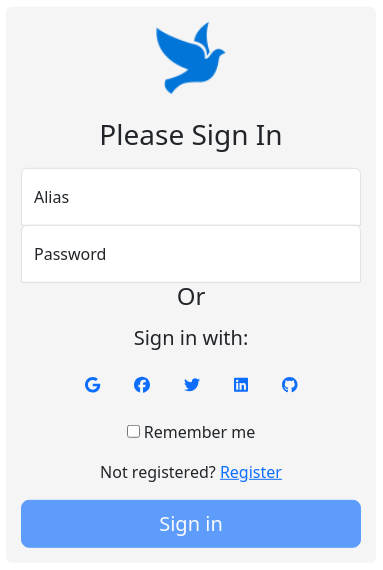
Test: Login Component › disables the sign in button if either the alias or password field is cleared
This screenshot has width=383, height=570.
Type "a" into the field labelled "Alias" at (191, 196), box [21,167,361,225]
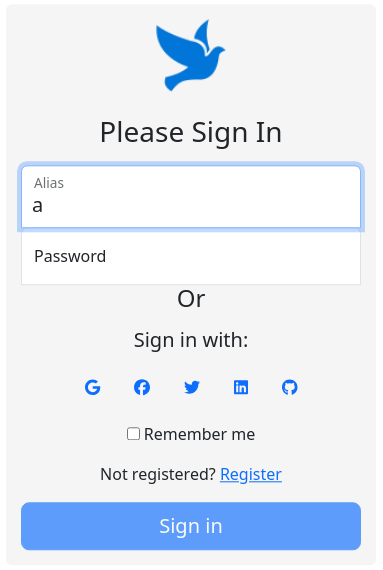
Type "b" into the password field labelled "Password" at (191, 256), box [21,227,361,285]
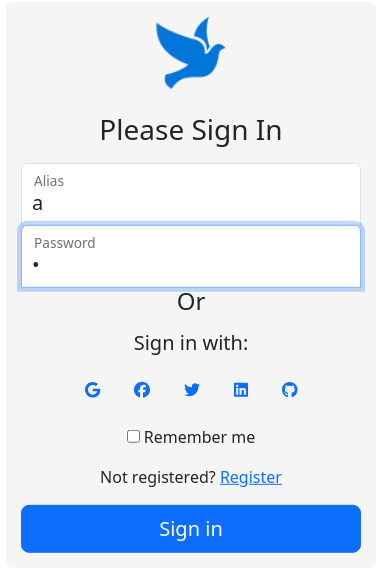
Expected: the button "Sign in" is enabled, [21,505,361,553]
Clear the field labelled "Alias" at (191, 194), box [21,162,361,225]
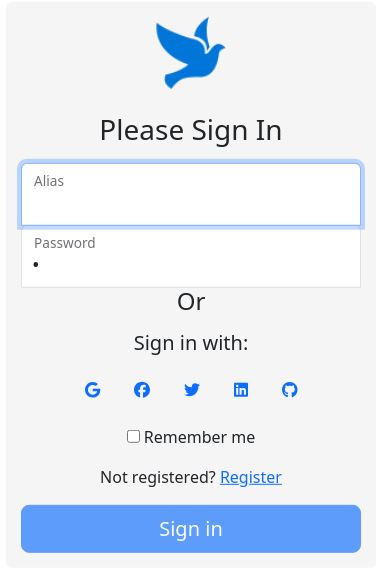
Expected: the button "Sign in" is disabled, [21,505,361,553]
Type "a" into the field labelled "Alias" at (191, 194), box [21,162,361,225]
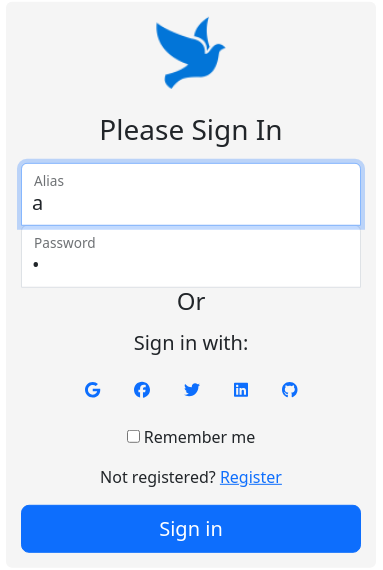
Clear the password field labelled "Password" at (191, 256), box [21,224,361,287]
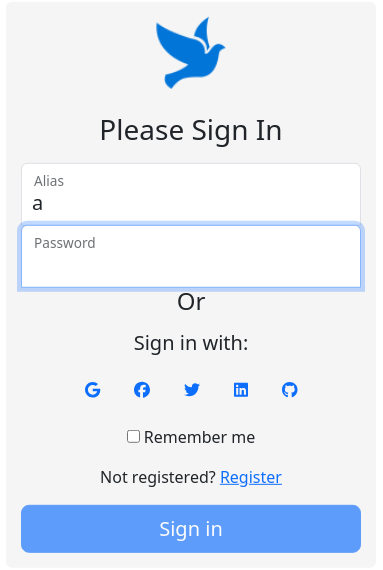
Expected: the button "Sign in" is disabled, [21,505,361,553]
